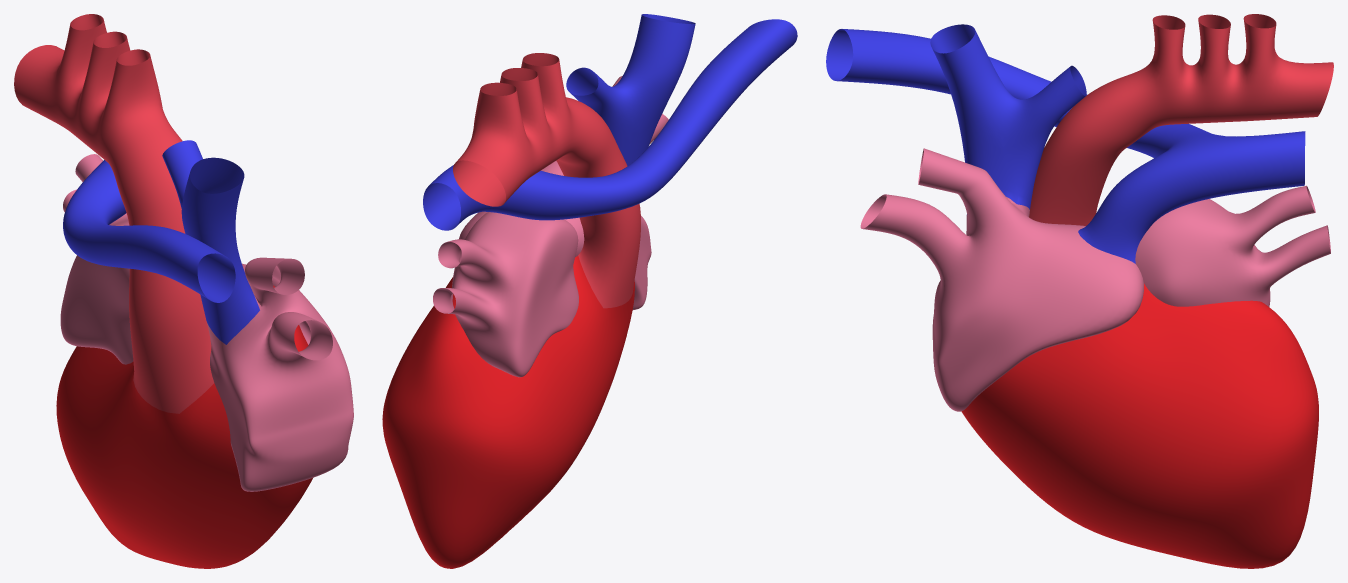
Rendered from O'CORE.fbx.
3 views of the same model, side by side, from view 1: azimuth 30°, elevation 25°; view 2: azimuth 150°, elevation 25°; view 3: azimuth 270°, elevation 25° (orthographic). The views are drawn at different scales.
Visible parts, largest first — view 1: Cube.001, Cube.002, Cube.003; view 2: Cube.001, Cube.003, Cube.002; view 3: Cube.001, Cube.002, Cube.003.
Boxes of the visible parts, x1,y1,x2,y2 form: Cube.001: (14,14,312,568); Cube.002: (162,140,353,491); Cube.003: (60,154,133,364); Cube.001: (382,19,797,568); Cube.003: (433,212,578,377); Cube.002: (459,14,695,309); Cube.001: (826,14,1333,568); Cube.002: (860,24,1143,411); Cube.003: (1135,185,1330,306).
Size of the model in its own units: 9122 by 18987 by 16691.
